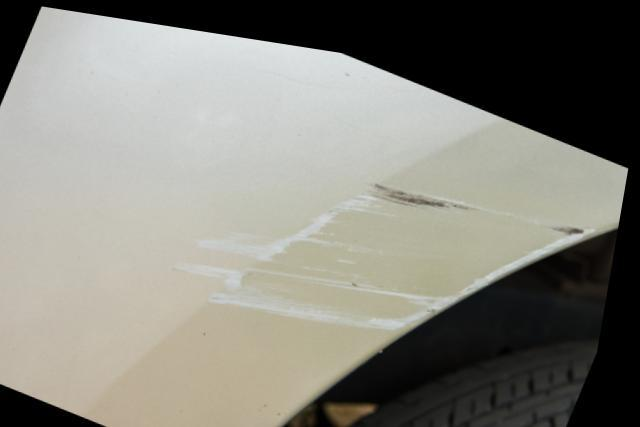scratch: (174, 166, 604, 317)
